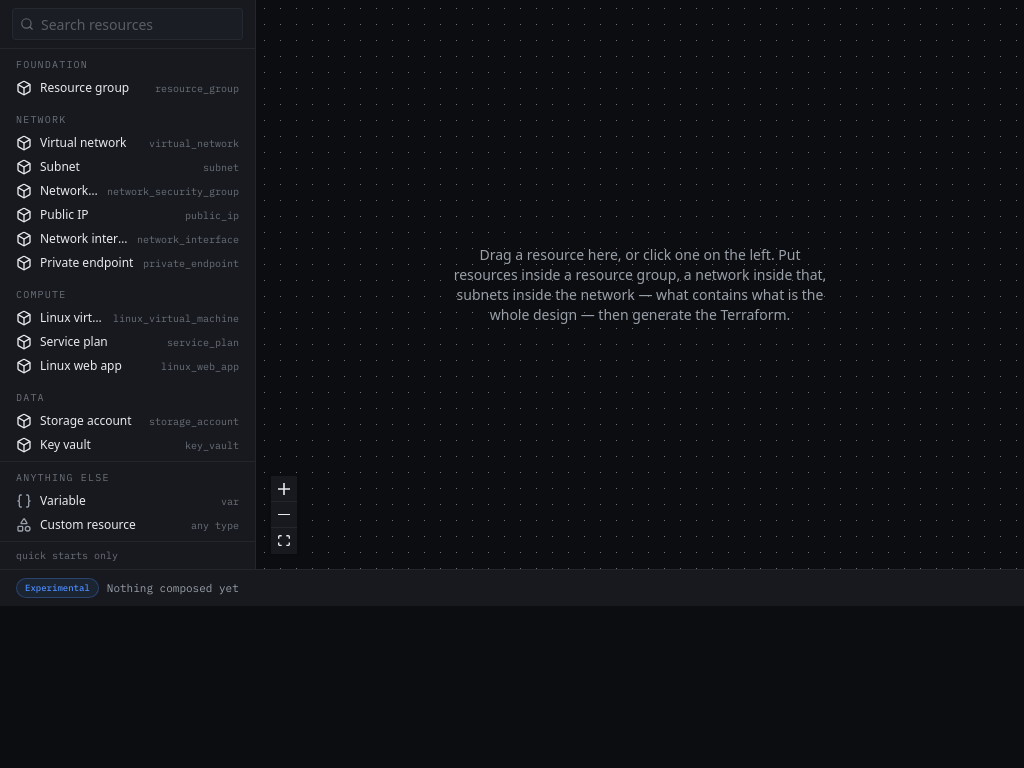
Test: switches a resource to the data source that looks it up
Curated, so it is placed without a network call of any kind.
Click the button "Subnet subnet".
click(128, 167)  # box top-left (0, 155), bottom-right (255, 179)
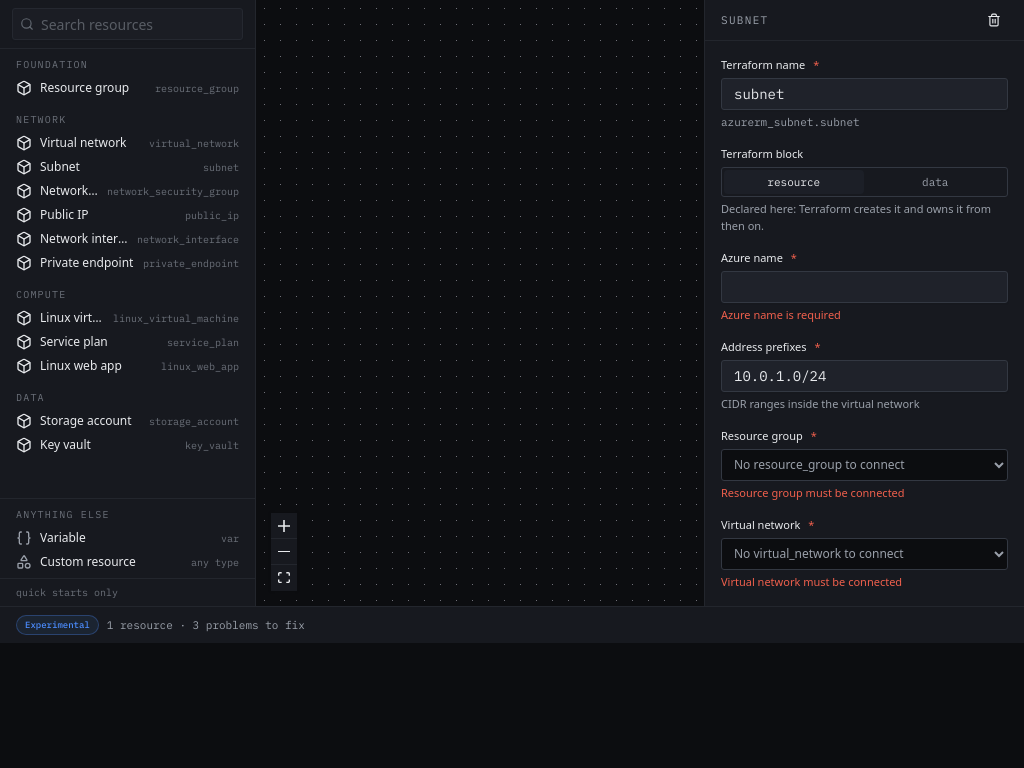
Result: the field labelled "Address prefixes *" is shown at top-left (721, 360), bottom-right (1008, 392)
Click the button "data".
click(935, 182)  # box top-left (866, 170), bottom-right (1005, 194)
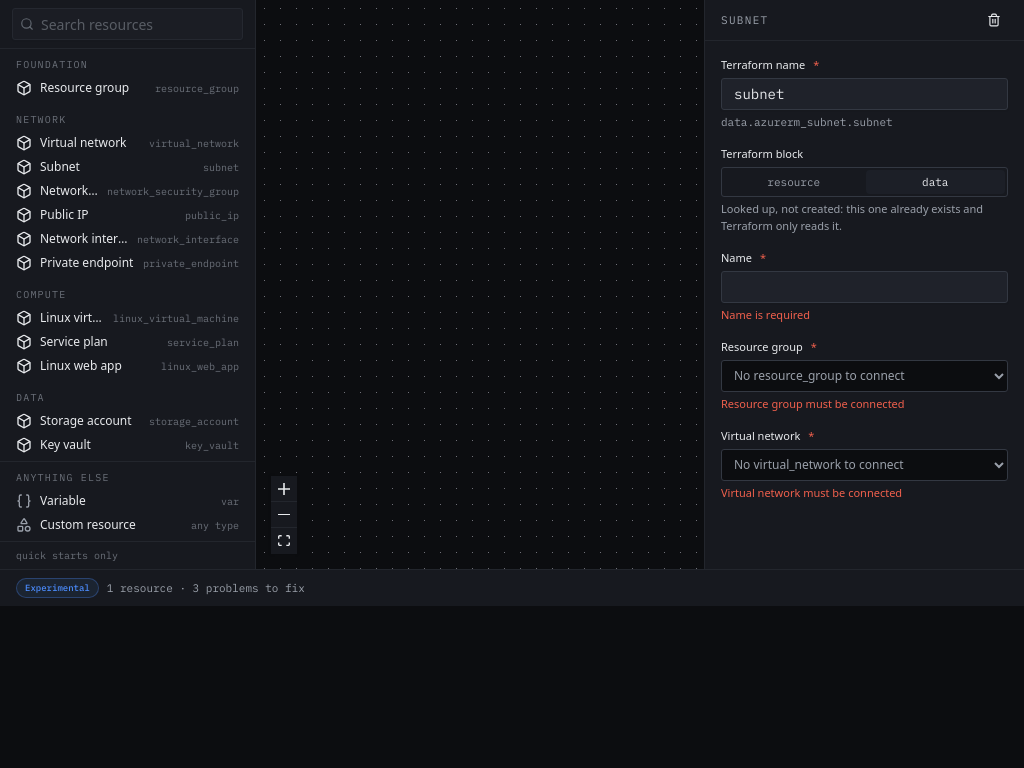
Result: the dropdown labelled "Virtual network *" is shown at top-left (721, 448), bottom-right (1008, 480)
Result: the text "data.azurerm_subnet.subnet" is shown at top-left (721, 114), bottom-right (893, 128)
Result: the label labelled "Address prefixes" is gone
